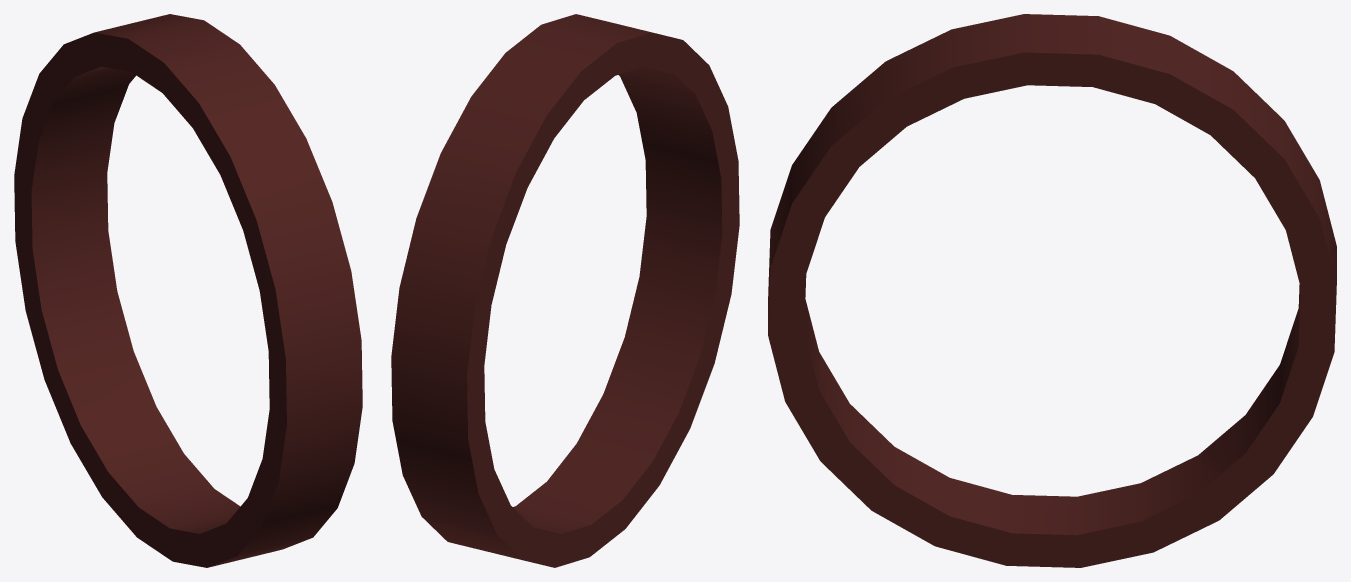
File: круг финиша.fbx
3 views of the same model, side by side, from view 1: azimuth 30°, elevation 25°; view 2: azimuth 150°, elevation 25°; view 3: azimuth 270°, elevation 25° (orthographic). The views are drawn at different scales.
Parts seen in each view (by area): view 1: Model; view 2: Model; view 3: Model.
Boxes of the visible parts, <box> form: Model: <box>14,14,362,567</box>; Model: <box>391,14,739,567</box>; Model: <box>768,14,1336,567</box>.
Size of the model in its own units: 13.6 by 84.81 by 84.81.
